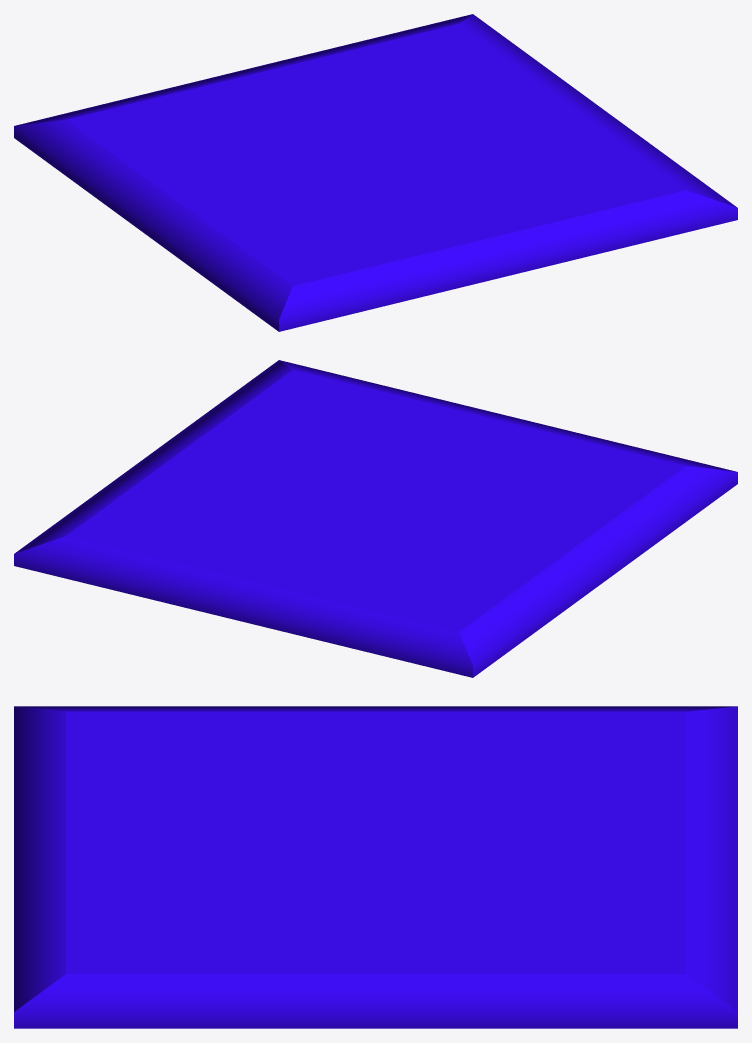
Rendered from office_pack_mugCoaster_square_1_meshCollider.fbx.
3 views of the same model, one above another, from view 1: azimuth 30°, elevation 25°; view 2: azimuth 150°, elevation 25°; view 3: azimuth 270°, elevation 25° (orthographic). The views are drawn at different scales.
Visible parts, largest first — view 1: office_pack_mugCoaster_square_1_meshCollider; view 2: office_pack_mugCoaster_square_1_meshCollider; view 3: office_pack_mugCoaster_square_1_meshCollider.
Boxes of the visible parts, <box> form: office_pack_mugCoaster_square_1_meshCollider: <box>14,14,737,331</box>; office_pack_mugCoaster_square_1_meshCollider: <box>14,360,737,677</box>; office_pack_mugCoaster_square_1_meshCollider: <box>14,706,737,1028</box>.
Bounding box in the file's own units: 10 × 0.5 × 10.
